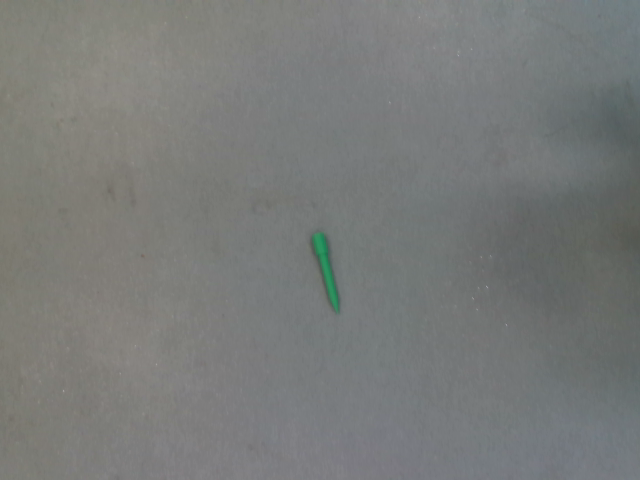Probe: (307, 225, 344, 317)
